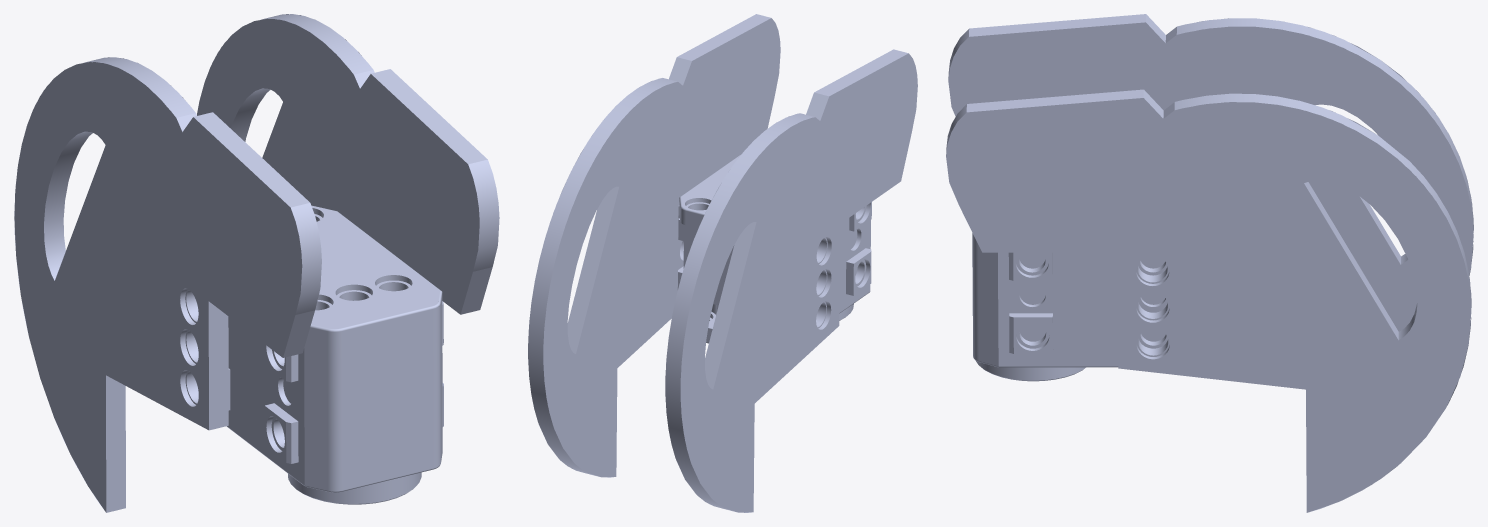
3 views of the same model, side by side, from view 1: azimuth 30°, elevation 25°; view 2: azimuth 150°, elevation 25°; view 3: azimuth 270°, elevation 25° (orthographic). The views are drawn at different scales.
Visible parts, largest first — view 1: ___kepala_metal_Rageshwari_28_9_2____Cut_Extrude6__DC_Shell, Cut_Extrude6_DC_Shell, Imported1_DC_Shell; view 2: ___kepala_metal_Rageshwari_28_9_2____Cut_Extrude6__DC_Shell, Cut_Extrude6_DC_Shell, Imported1_DC_Shell; view 3: Cut_Extrude6_DC_Shell, ___kepala_metal_Rageshwari_28_9_2____Cut_Extrude6__DC_Shell, Imported1_DC_Shell.
Part boxes in pixels (x1,y1,x2,y2): ___kepala_metal_Rageshwari_28_9_2____Cut_Extrude6__DC_Shell: (14, 57, 321, 512); Cut_Extrude6_DC_Shell: (197, 14, 499, 314); Imported1_DC_Shell: (227, 205, 443, 504); ___kepala_metal_Rageshwari_28_9_2____Cut_Extrude6__DC_Shell: (665, 49, 917, 512); Cut_Extrude6_DC_Shell: (528, 14, 780, 477); Imported1_DC_Shell: (677, 154, 871, 343); Cut_Extrude6_DC_Shell: (946, 89, 1471, 512); ___kepala_metal_Rageshwari_28_9_2____Cut_Extrude6__DC_Shell: (948, 14, 1473, 331); Imported1_DC_Shell: (972, 233, 1167, 381).
Bounding box in the file's own units: 31.2 × 68.13 × 78.7.
